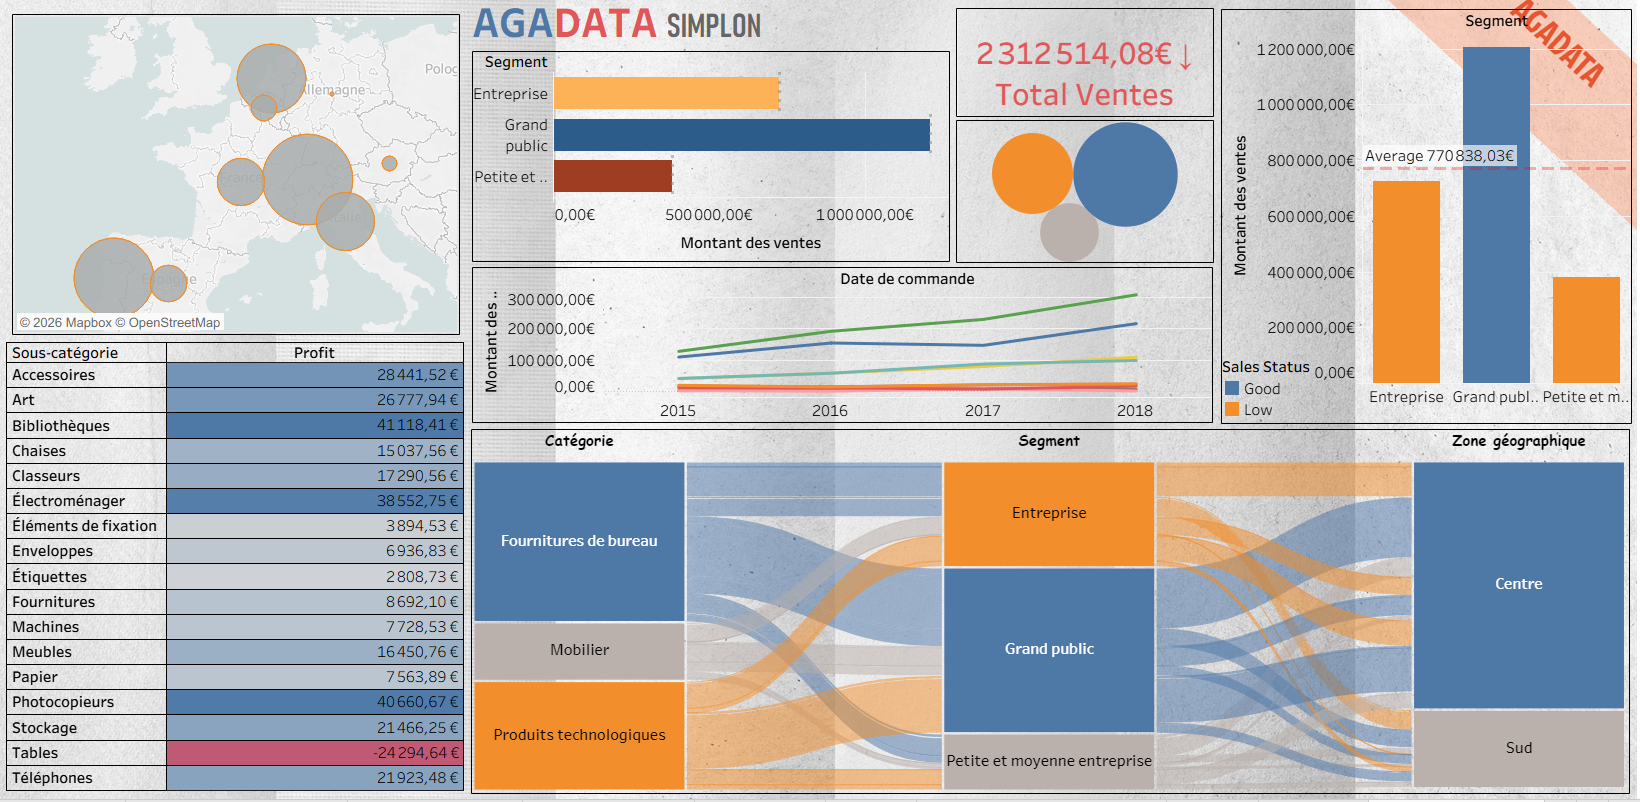

This screenshot's page, from the dashboard's own definition file:
{"tool":"tableau","page":{"name":"DASHBOARD FINAL","canvas":[1000,1000],"units":"permille","ordinal":0},"visuals":[{"type":"dashboard-object","box":[4.8,10,495.2,489.9]},{"type":"dashboard-object","box":[500,10,495.2,489.9]},{"type":"worksheet","title":"pays","mark":"Automatic","box":[13.3,12.5,278.8,418.2]},{"type":"worksheet","title":"ventes KPI","mark":"Automatic","box":[587.5,13.7,155.7,136.1]},{"type":"worksheet","title":"Mise en forme conditionnelle","mark":"Automatic","rows":["Montant des ventes"],"cols":["Segment"],"box":[746.9,15,248.1,518.1]},{"type":"worksheet","title":"segment/ventes","mark":"Automatic","rows":["Segment"],"cols":["Montant des ventes"],"box":[295.1,67.4,288.5,263.4]},{"type":"worksheet","title":"seg/montant","mark":"Circle","box":[587.2,153.6,155.7,178.5]},{"type":"worksheet","title":"ventes/years","mark":"Automatic","rows":["Montant des ventes"],"cols":["Date de commande"],"box":[295.3,337.1,447.3,194.8]},{"type":"worksheet","title":"Sous.categories/ventes","mark":"Square","rows":["Sous-catégorie"],"box":[13.9,430.7,276.4,560.6]},{"type":"legend","title":"Mise en forme conditionnelle","param":"[federated.1gj9i310744lpi126c0ez101291l].[usr:Calculation_0509106293706758:nk]","box":[748,448.2,78.2,79.9]},{"type":"title","box":[4.8,499.9,990.3,93.6]},{"type":"worksheet","title":"Categorie/ Segment/ Zone geo via profit ","box":[294.7,539.3,699.8,455.7]}]}

Visuals, with their boxes on the dashboard's canvas, which has no fixed pixel size, in thousandths of its width and height (x1, y1, x2, y2). These are canvas units, not pixel positions in the 1640x802 screenshot, which may show the page scaled, cropped or inside an application window:
dashboard-object: (5, 10, 500, 500)
dashboard-object: (500, 10, 995, 500)
"pays" worksheet: (13, 12, 292, 431)
"ventes KPI" worksheet: (588, 14, 743, 150)
"Mise en forme conditionnelle" worksheet: (747, 15, 995, 533)
"segment/ventes" worksheet: (295, 67, 584, 331)
"seg/montant" worksheet (Circle marks): (587, 154, 743, 332)
"ventes/years" worksheet: (295, 337, 743, 532)
"Sous.categories/ventes" worksheet (Square marks): (14, 431, 290, 991)
"Mise en forme conditionnelle" legend: (748, 448, 826, 528)
title: (5, 500, 995, 594)
"Categorie/ Segment/ Zone geo via profit " worksheet: (295, 539, 994, 995)
